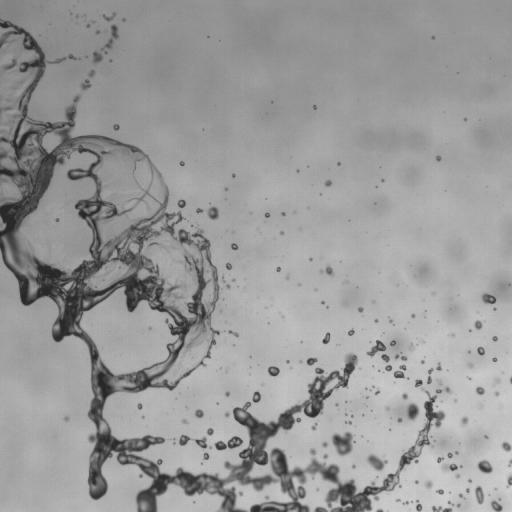droplet: (331, 432, 353, 455), (367, 340, 389, 362), (366, 454, 387, 471), (406, 403, 419, 420), (477, 460, 492, 473), (393, 365, 406, 378), (475, 486, 484, 504), (207, 206, 218, 219), (194, 437, 207, 448), (482, 293, 496, 303), (491, 500, 502, 511), (267, 366, 279, 376), (179, 435, 190, 445), (93, 52, 102, 63), (81, 79, 90, 89), (501, 442, 511, 451), (0, 106, 11, 114), (306, 357, 317, 365), (252, 391, 260, 402), (324, 266, 333, 275), (322, 333, 330, 343), (474, 320, 482, 329), (476, 386, 484, 394), (195, 409, 203, 417), (416, 501, 422, 511), (178, 199, 185, 207), (477, 347, 484, 355), (461, 417, 468, 425), (425, 481, 432, 488), (231, 243, 237, 250), (385, 365, 392, 371), (207, 428, 213, 435), (113, 124, 119, 130), (325, 180, 331, 186), (348, 329, 354, 335), (311, 423, 317, 429), (203, 453, 209, 459), (436, 363, 441, 370), (68, 54, 74, 59), (89, 70, 94, 76), (196, 208, 202, 213), (226, 263, 231, 269), (390, 340, 395, 346), (445, 387, 450, 393), (402, 393, 407, 399), (137, 403, 142, 409), (437, 489, 443, 494), (436, 156, 441, 161), (358, 307, 363, 312), (492, 336, 497, 341), (397, 417, 402, 422), (322, 442, 327, 447), (459, 493, 464, 498), (376, 508, 383, 511), (375, 389, 379, 394), (225, 412, 229, 417), (182, 419, 187, 423), (323, 454, 328, 458), (180, 161, 184, 165), (265, 213, 269, 217), (276, 267, 280, 271), (495, 379, 499, 383), (225, 392, 229, 396), (448, 453, 452, 457), (403, 501, 407, 505), (448, 501, 452, 505), (126, 199, 131, 202), (389, 318, 392, 323), (226, 285, 230, 288), (492, 358, 496, 361), (469, 363, 472, 367), (495, 391, 498, 395), (347, 421, 351, 424), (466, 488, 469, 492), (96, 30, 99, 33), (313, 106, 316, 109), (105, 271, 108, 274), (411, 314, 414, 317), (421, 360, 424, 363), (65, 417, 68, 420), (457, 504, 460, 507), (87, 24, 89, 27), (232, 174, 235, 176), (282, 212, 284, 215), (56, 218, 58, 221), (281, 231, 283, 234), (375, 319, 377, 322), (352, 465, 355, 467), (456, 475, 459, 477), (415, 480, 417, 483), (21, 80, 23, 82), (286, 276, 288, 278), (322, 301, 324, 303), (468, 377, 470, 379), (485, 436, 487, 438)
ligament: (0, 19, 440, 511), (214, 436, 242, 450), (103, 25, 118, 49), (437, 457, 458, 472), (3, 59, 16, 69), (432, 506, 452, 511), (103, 13, 114, 20), (427, 368, 432, 383), (395, 354, 407, 360), (229, 330, 238, 336), (507, 474, 511, 487), (508, 459, 511, 466), (510, 377, 511, 382)
